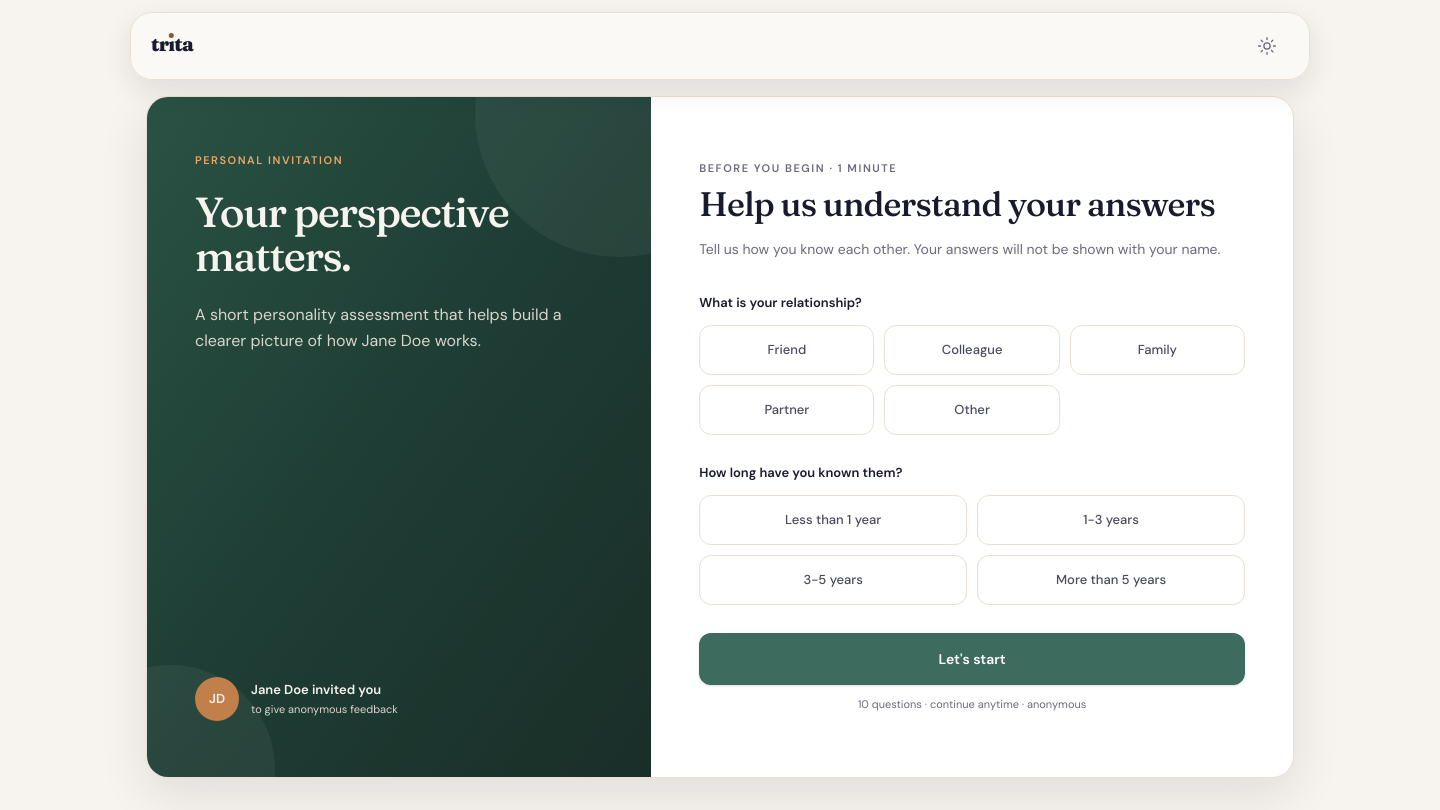
it: C5.5 ObserverClient integration › assessment phase › keeps auto-advancing through the former 25 percent checkpoint
Click the button "Friend" at (787, 350), box [699,325,874,375]
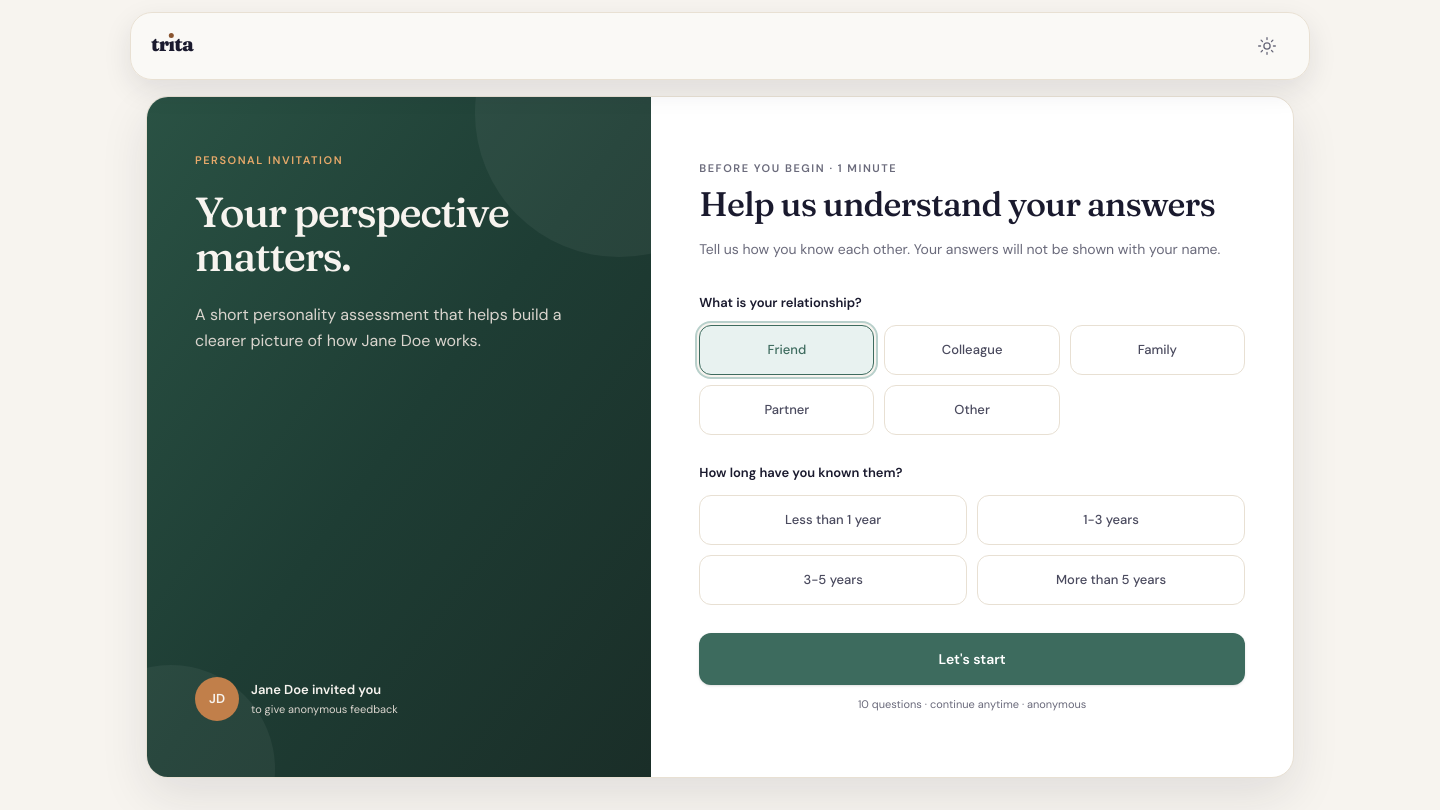
Click the button "Less than 1 year" at (833, 520), box [699,495,967,545]
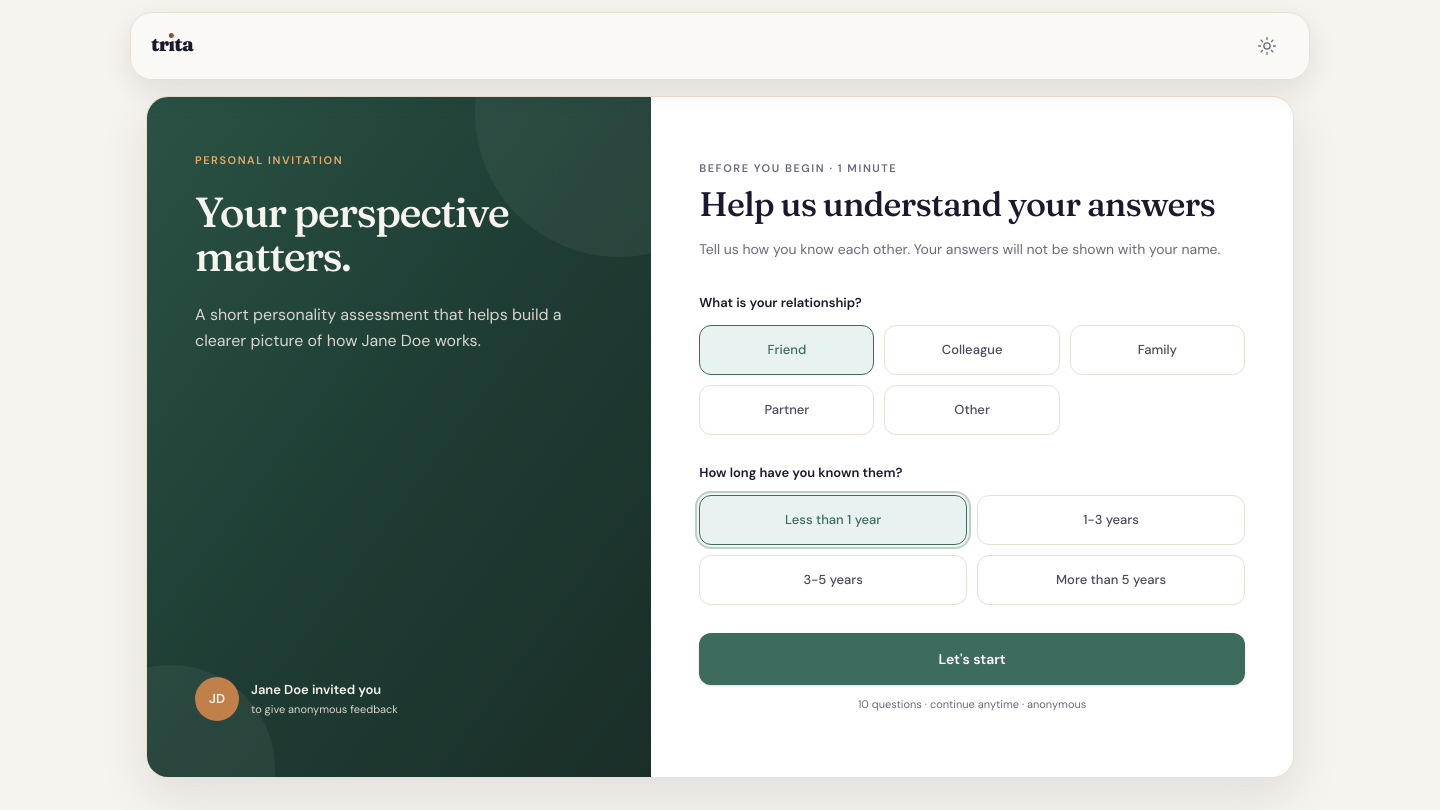
Click the button "Let's start" at (972, 659), box [699,633,1245,685]
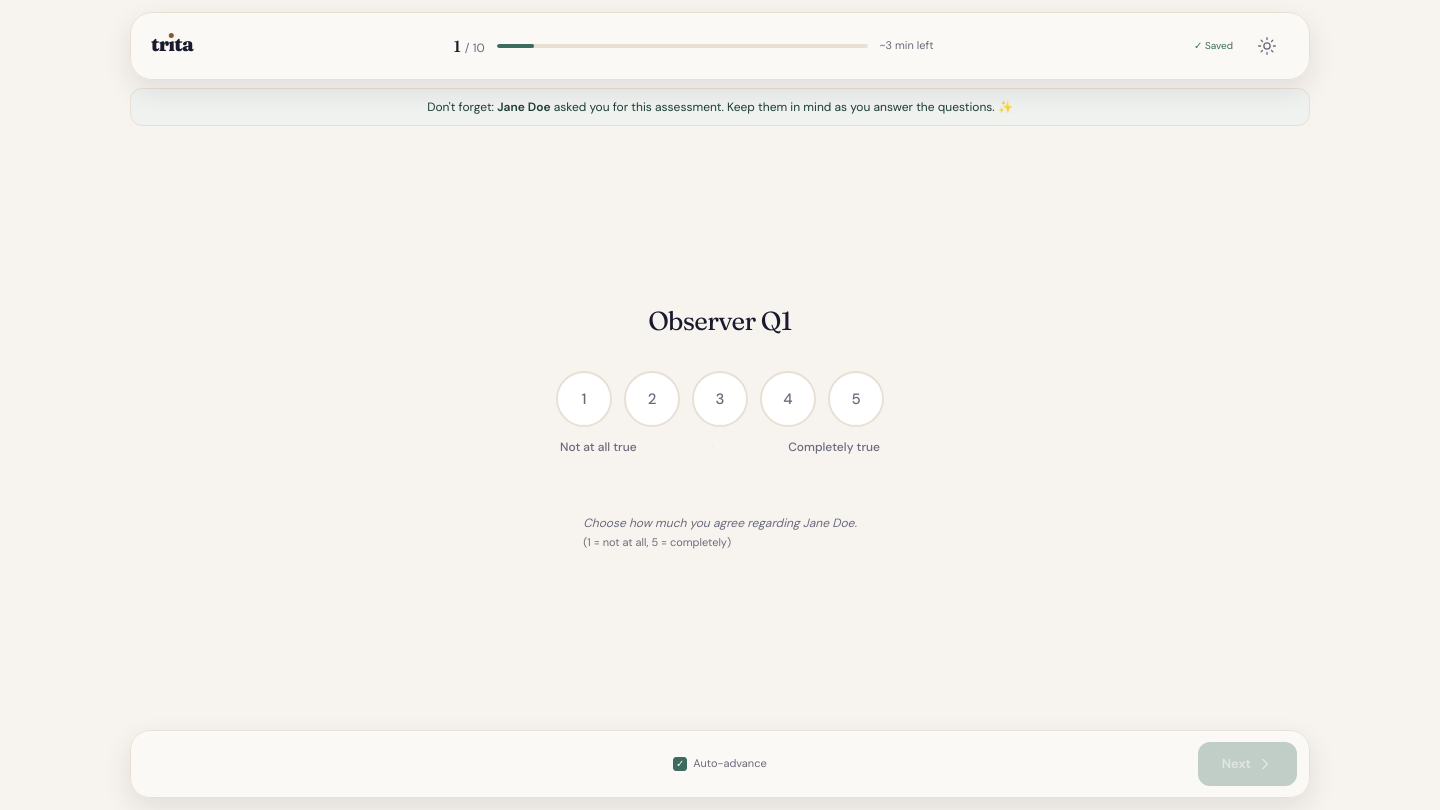
Now the text "Observer Q1" is shown, box [648,305,792,339]
Click the radio button named "3 - " at (720, 399), box [692,371,748,427]
Wait 130 ms
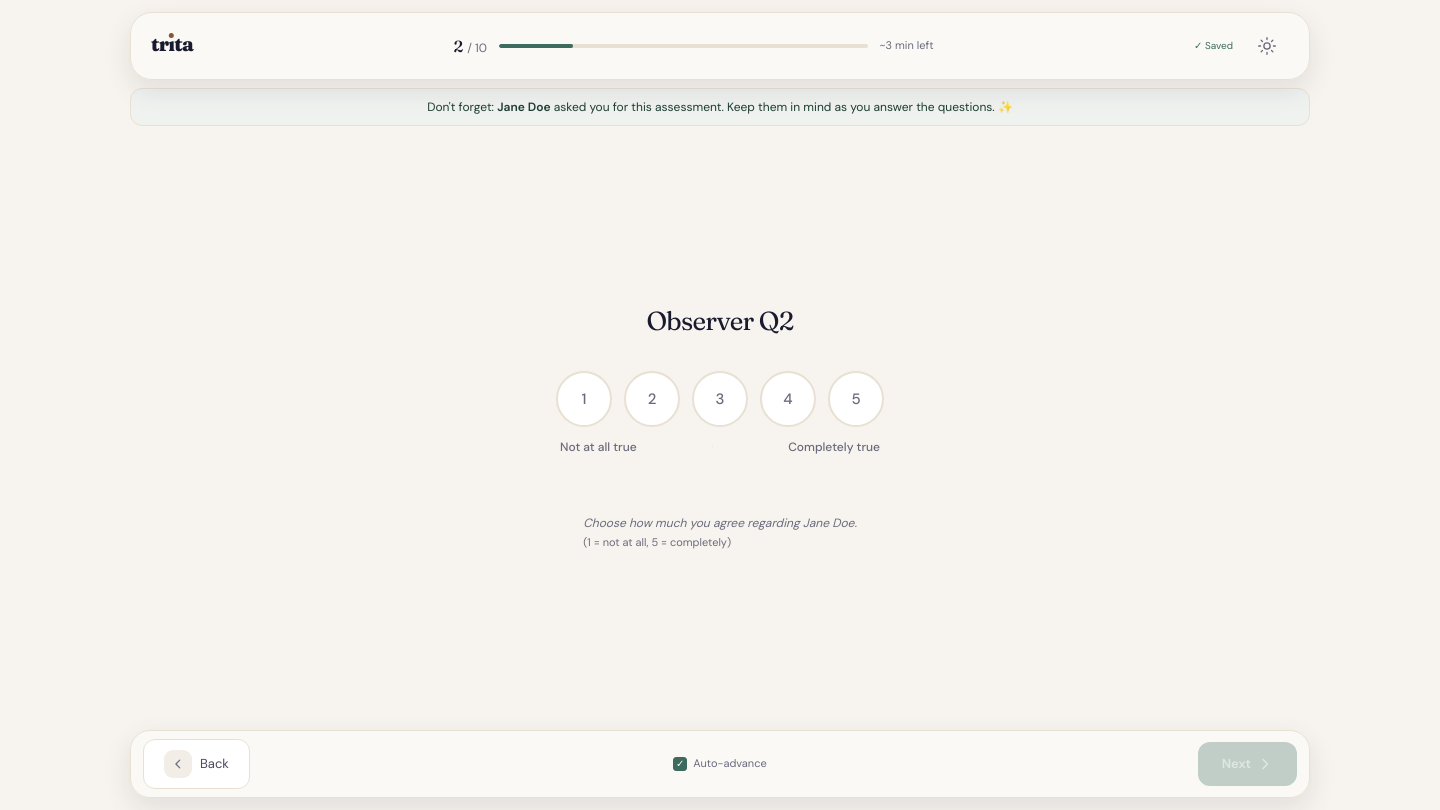
Now the text "Observer Q2" is shown, box [646,305,794,339]
Click the radio button named "3 - " at (720, 399), box [692,371,748,427]
Wait 130 ms
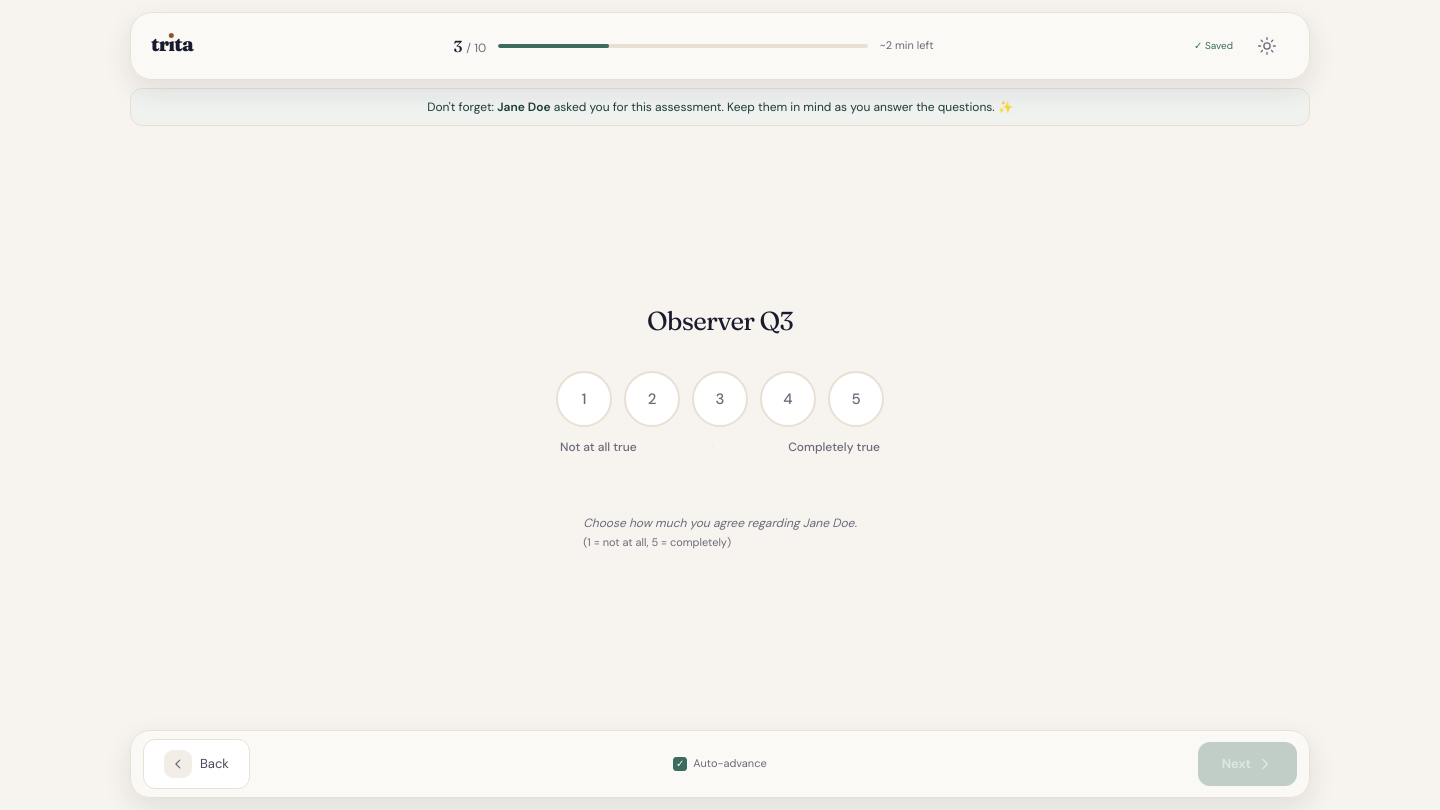
Now the text "Observer Q3" is shown, box [647,305,793,339]
Click the radio button named "3 - " at (720, 399), box [692,371,748,427]
Wait 130 ms
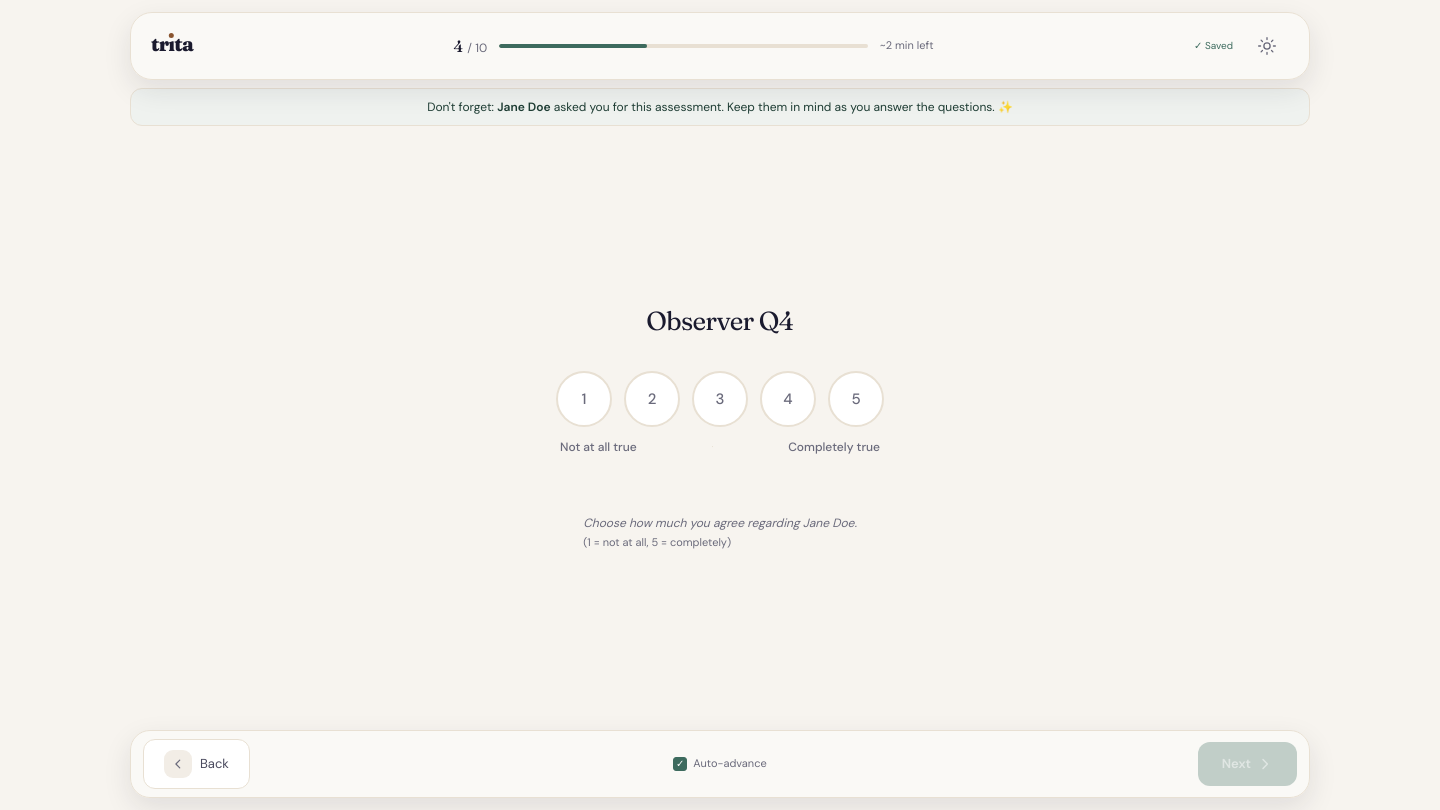
Now the text "Observer Q4" is shown, box [646,305,794,339]
